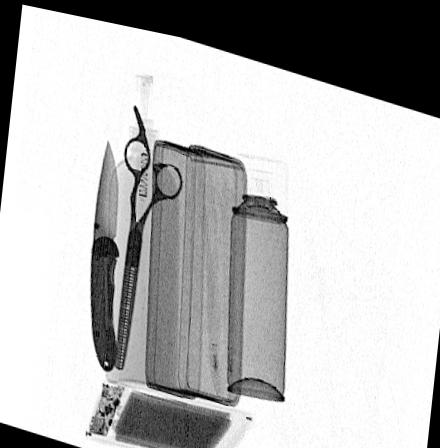Knife: (90, 128, 121, 367)
Powerbank: (87, 376, 249, 448)
Scissors: (113, 96, 182, 366)
Sprayer: (228, 142, 287, 388)
